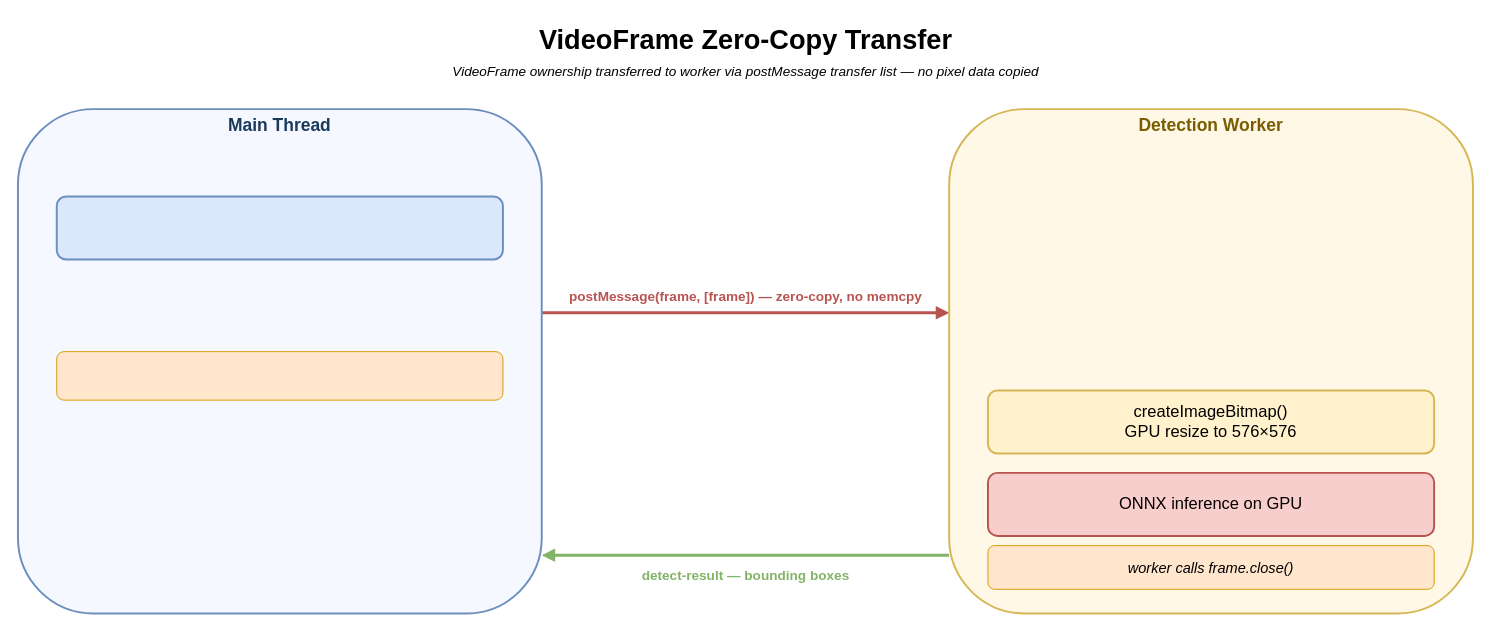
This 1490x631 diagram has some shape labels left out. Each missing label, with the centre of its shape:
"decode VideoFrame owns GPU buffer" goes at (279,227).
"frame is neutered — cannot be used" goes at (279,375).
